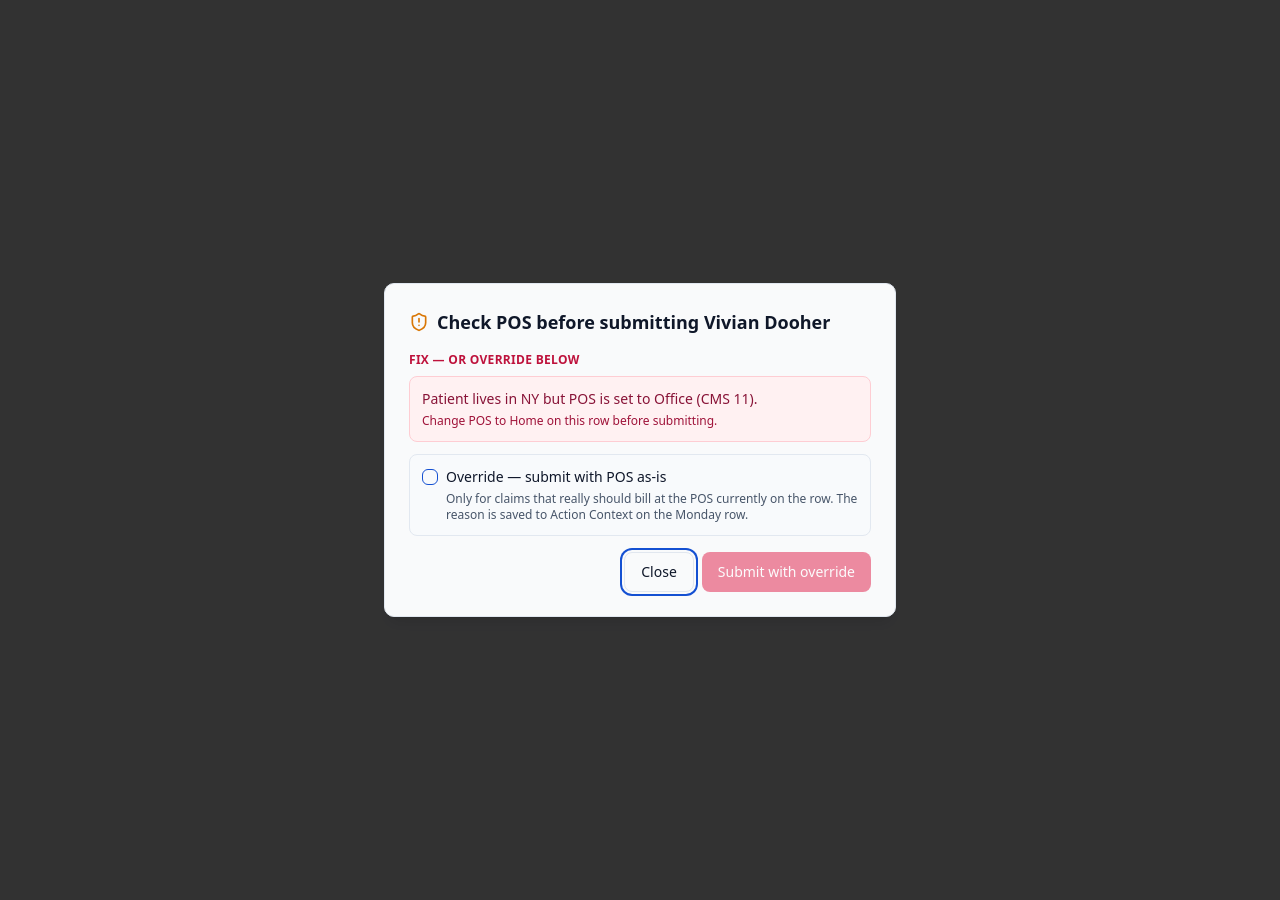
Scenario: BcbsSubmitGuardDialog — POS override › offers the override on a POS-only block and unlocks submit once a reason is typed
Later steps or results of the test are not shown.
Check: the button "Submit with override" is disabled, box 702,552 -> 871,592
Checkbox alone isn't enough — a reason is required.
Click the checkbox named "submit with POS as-is": (430, 477) 422,469 -> 438,485
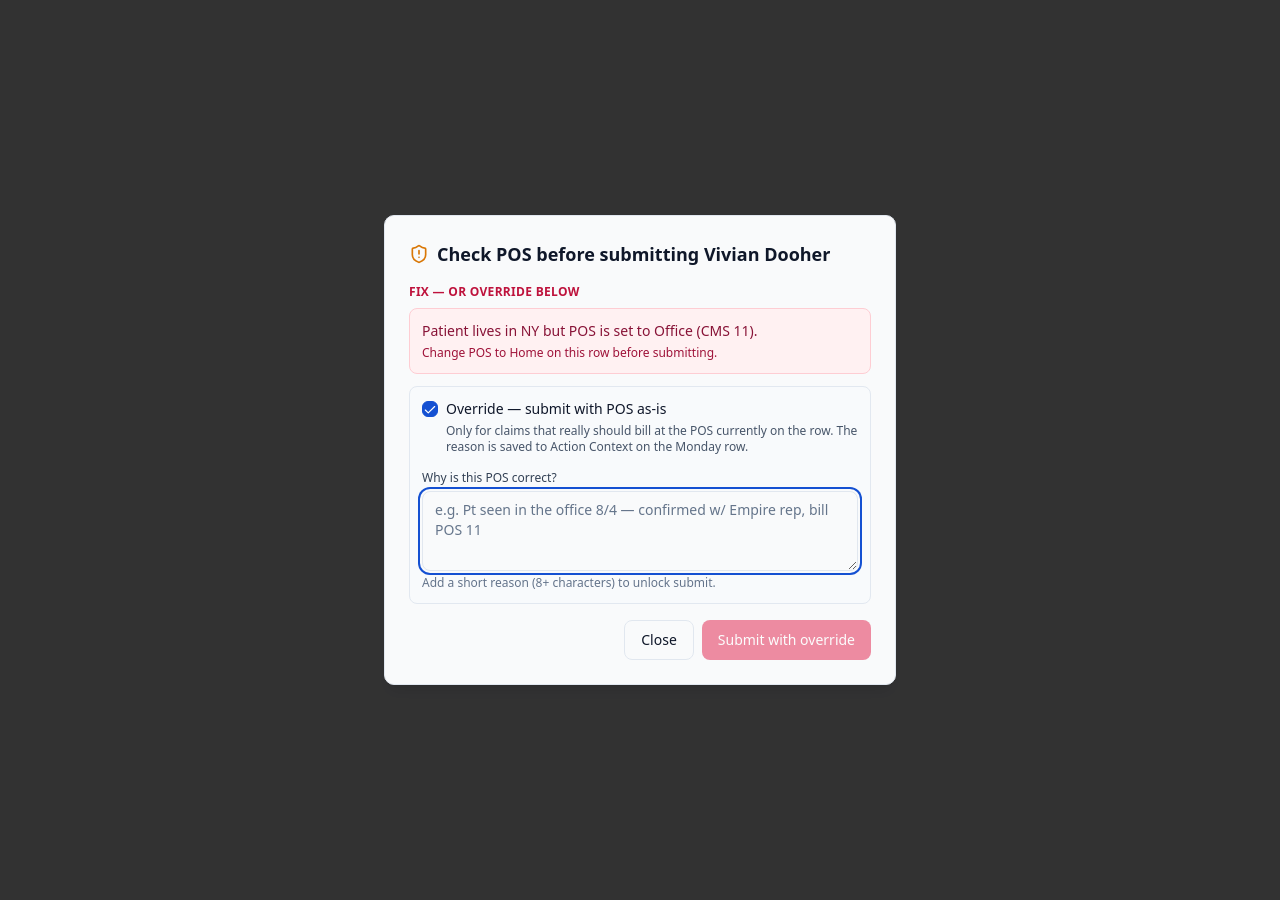
Check: the button "Submit with override" is disabled, box 702,620 -> 871,660
Replace the text in the text box labelled "Why is this POS correct?" with "Seen in office 8/4, confirmed with Empire": (640, 531) 422,491 -> 858,571
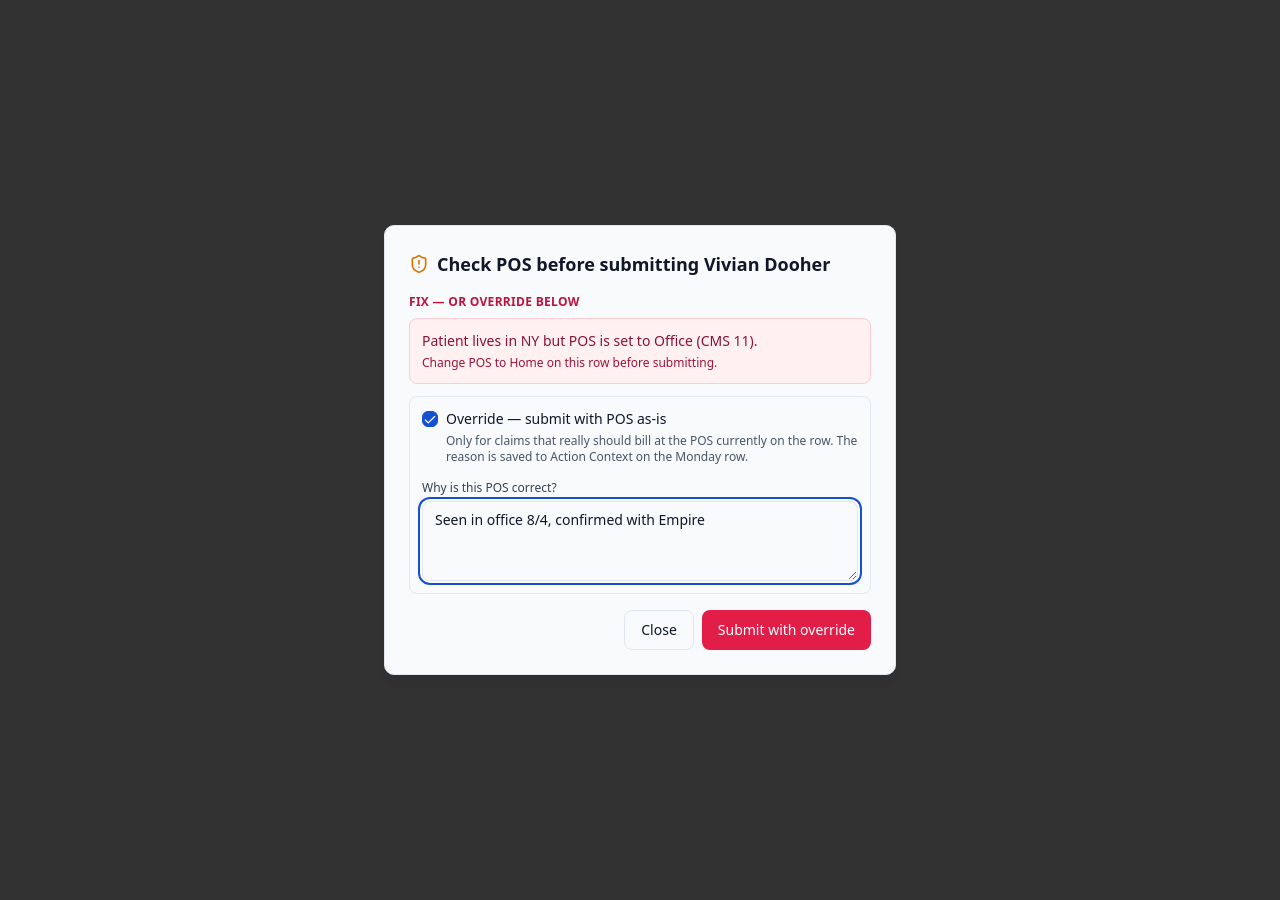
Check: the button "Submit with override" is enabled, box 702,610 -> 871,650
